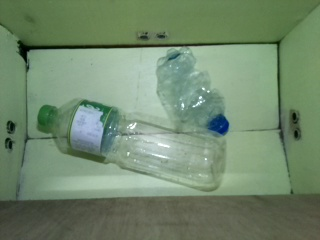bottle: (37, 96, 226, 192)
damaged-bottle: (152, 46, 229, 133)
